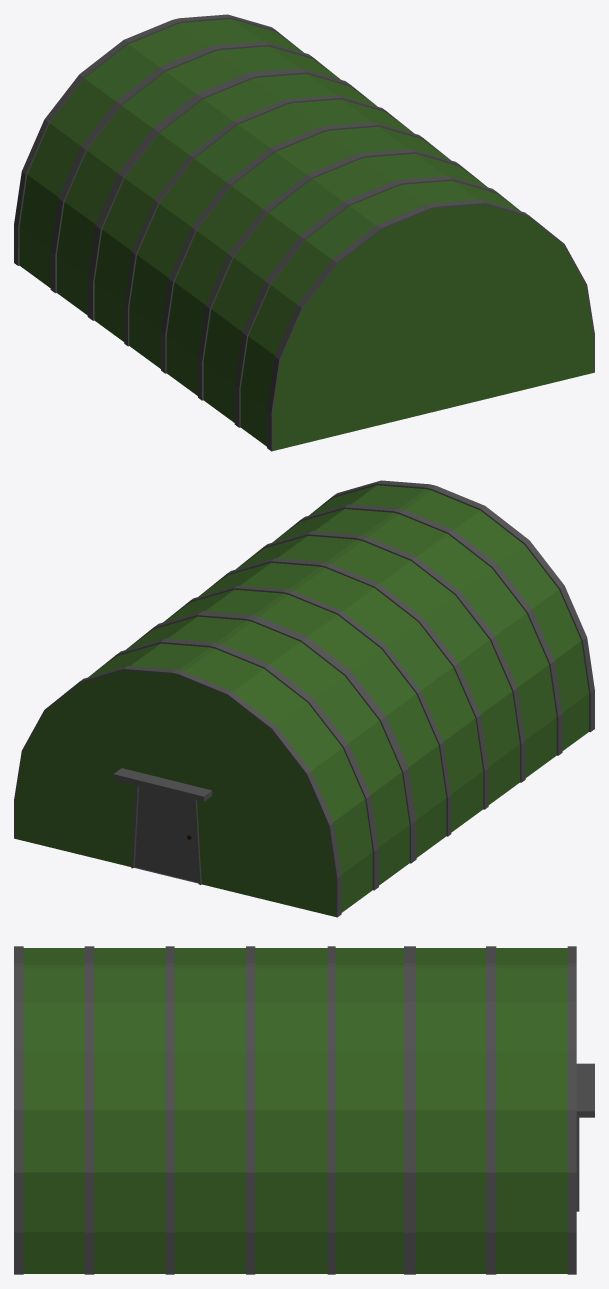
File: Building_MilitaryHangar2.fbx
3 views of the same model, one above another, from view 1: azimuth 30°, elevation 25°; view 2: azimuth 150°, elevation 25°; view 3: azimuth 270°, elevation 25° (orthographic). The views are drawn at different scales.
Visible parts, largest first — view 1: Cube; view 2: Cube; view 3: Cube.
Part boxes in pixels (left/top/right/bottom): Cube: left=14, top=14, right=594, bottom=451; Cube: left=14, top=480, right=594, bottom=917; Cube: left=14, top=946, right=594, bottom=1274.
Size of the model in its own units: 420 by 253 by 597.
